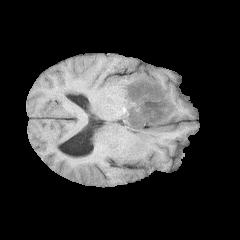glioma: (117, 71, 177, 131)
